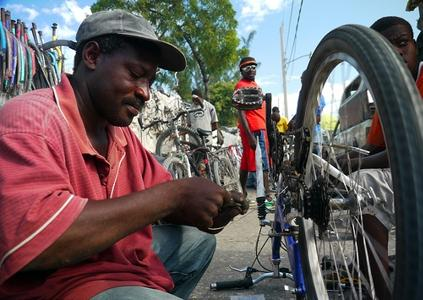person: (1, 13, 251, 300)
